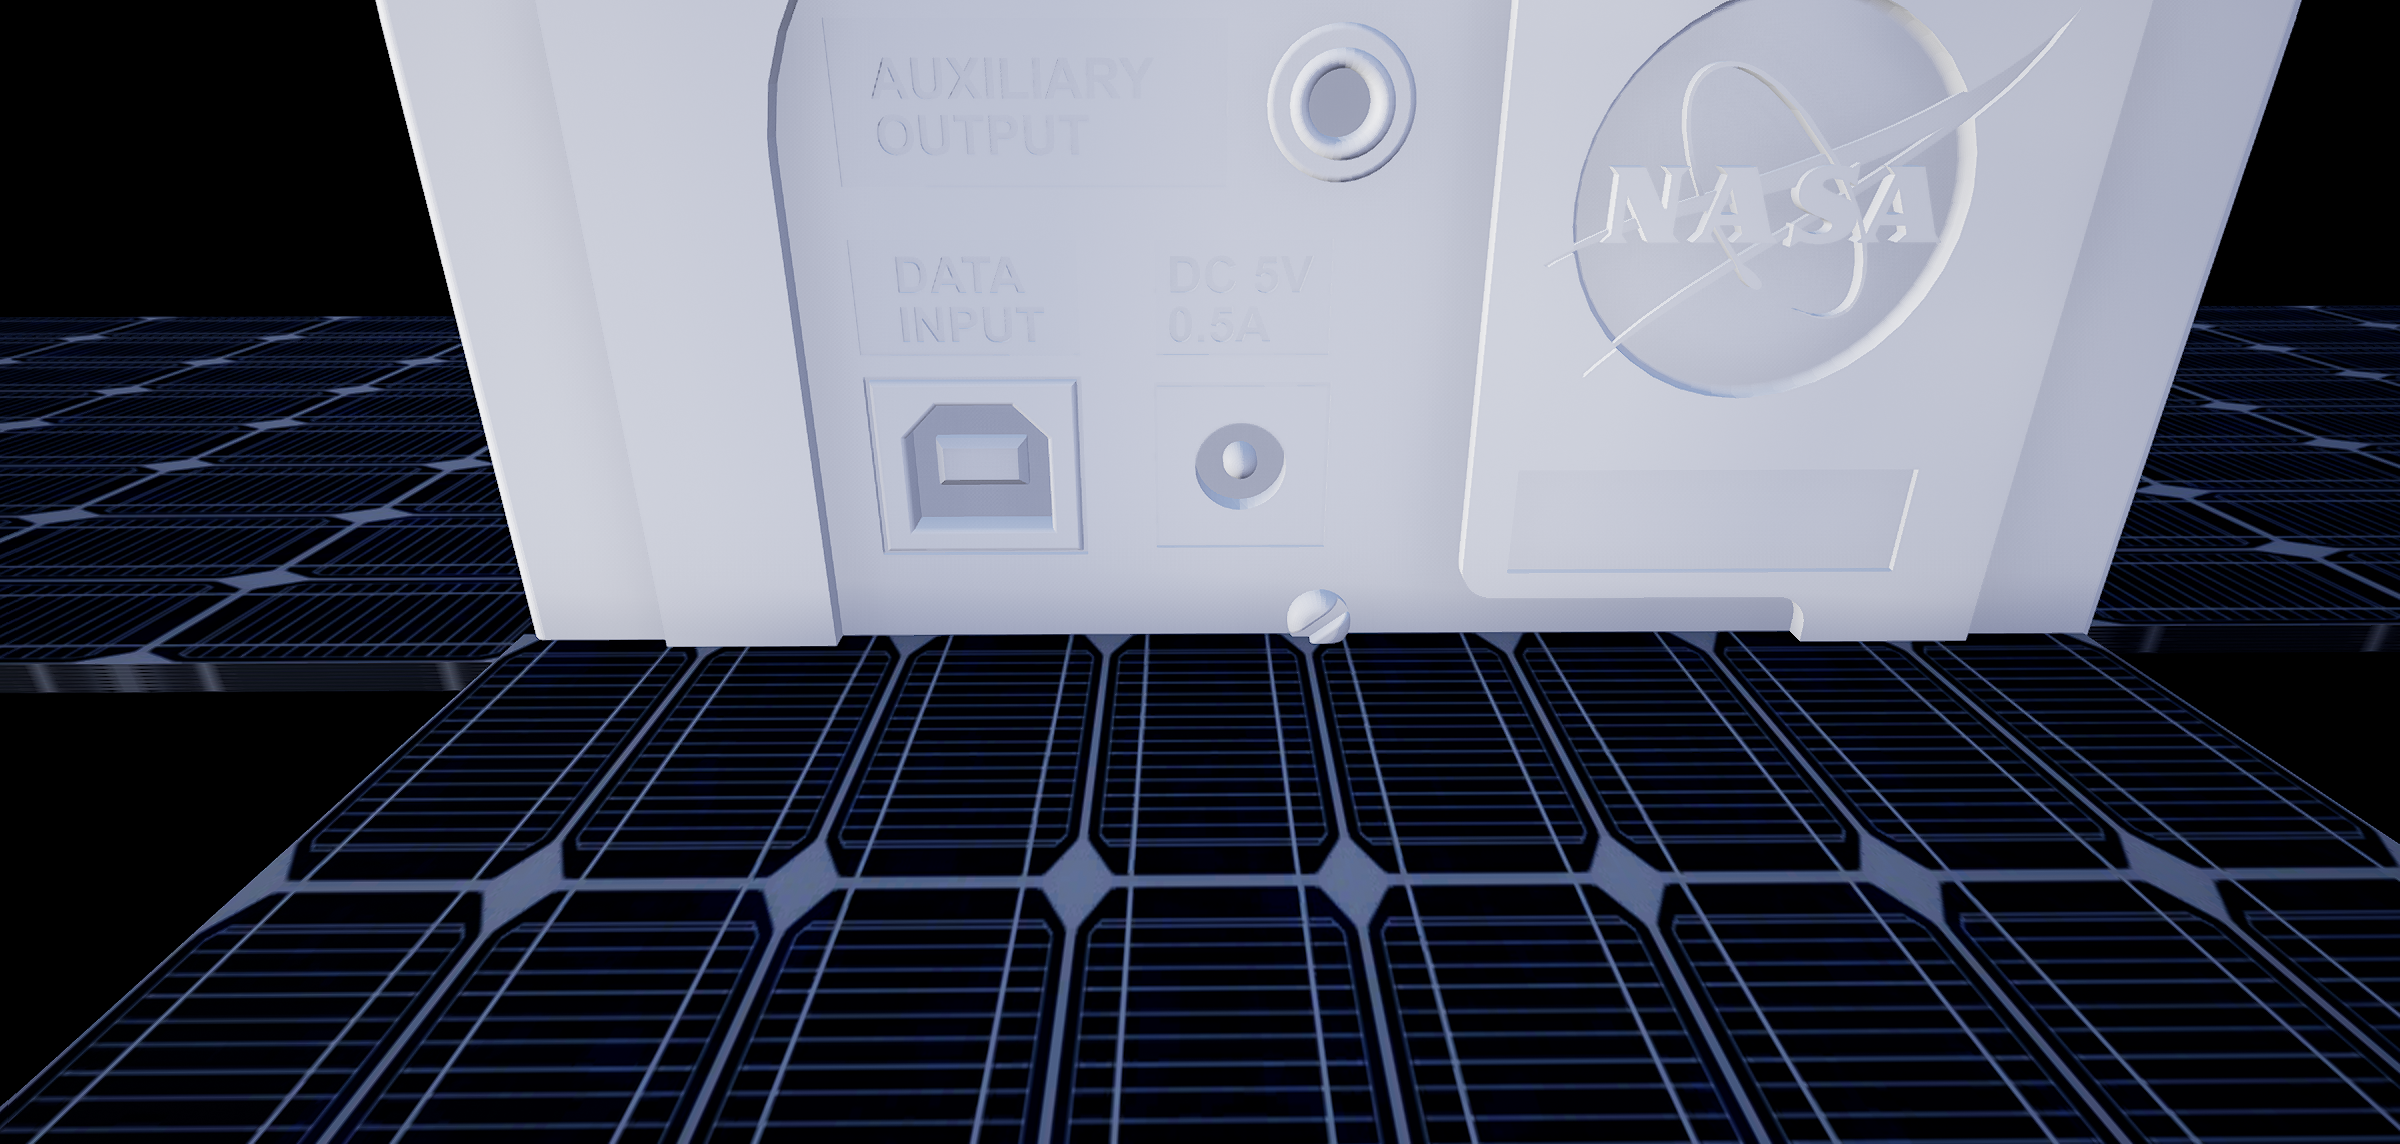aux: (1251, 18, 1430, 190)
dc: (1177, 406, 1306, 536)
usb: (888, 394, 1062, 539)
